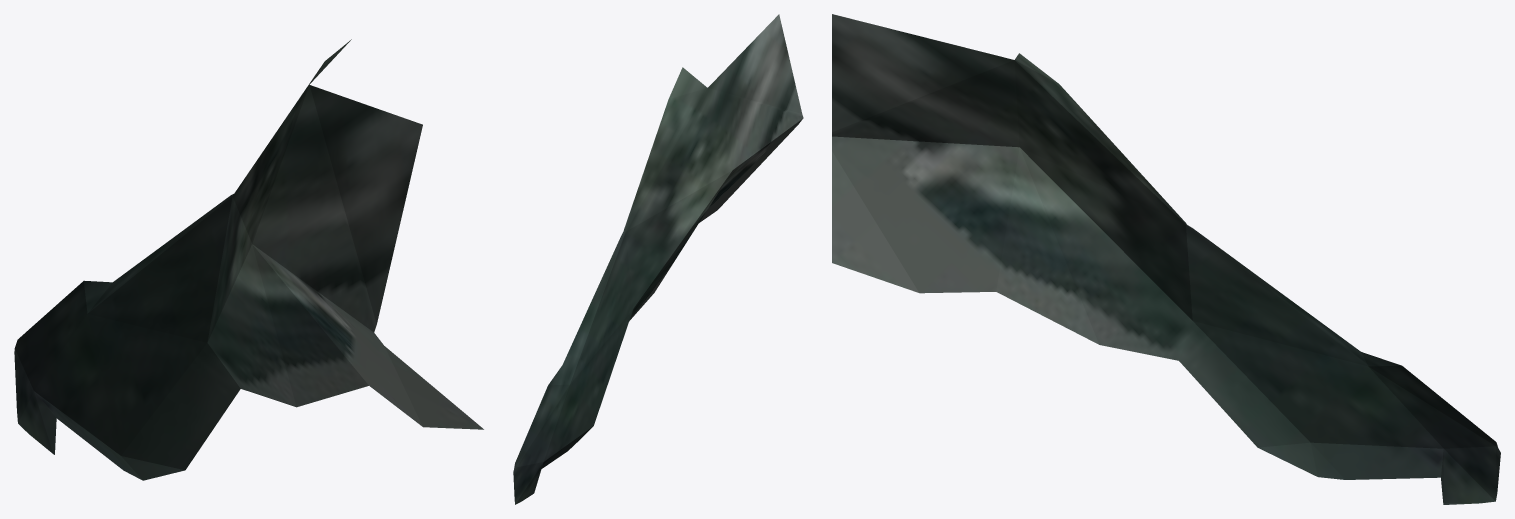
The picture shows the model from 3 angles, left to right: view 1: azimuth 30°, elevation 25°; view 2: azimuth 150°, elevation 25°; view 3: azimuth 270°, elevation 25°; orthographic projection. The views are drawn at different scales.
Size of the model in its own units: 1.77 by 10.09 by 13.03.
Materials: 1 (1 with a texture image).
